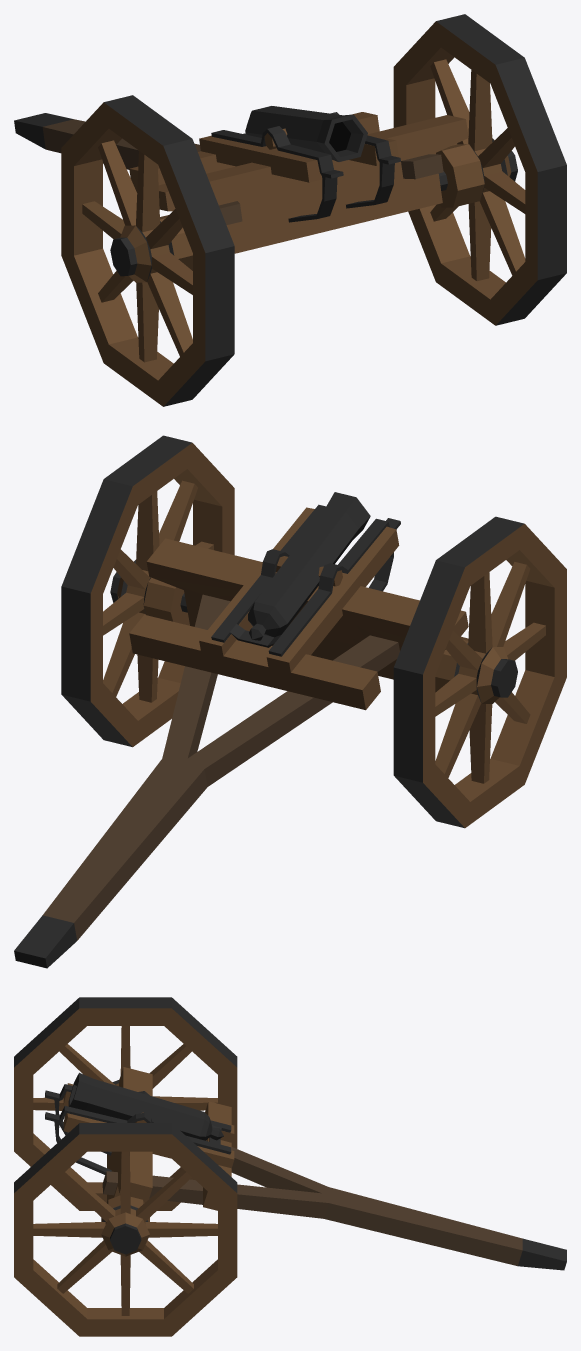
The model's file is cannon-wagon.glb.
The picture shows the model from 3 angles, top to bottom: view 1: azimuth 30°, elevation 25°; view 2: azimuth 150°, elevation 25°; view 3: azimuth 270°, elevation 25°; orthographic projection. The views are drawn at different scales.
Parts seen in each view (by area): view 1: cannon-wagon; view 2: cannon-wagon; view 3: cannon-wagon.
Part boxes in pixels (x1,y1,x2,y2): cannon-wagon: (14, 14, 566, 406); cannon-wagon: (14, 435, 566, 968); cannon-wagon: (14, 997, 566, 1336).
Size of the model in its own units: 1.72 by 1.11 by 2.74.
Materials: 1 (1 with a texture image).
